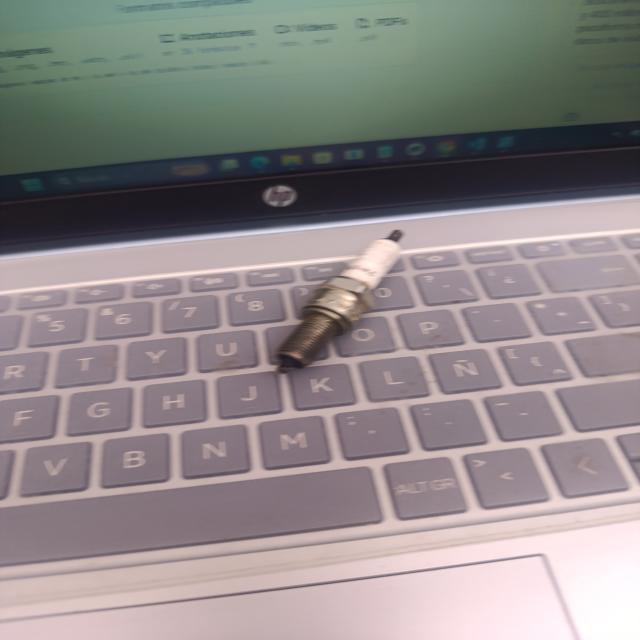bujia: (277, 230, 402, 373)
